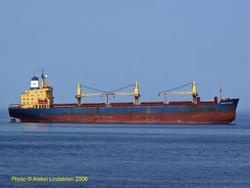Cargoship: (5, 67, 240, 125)
